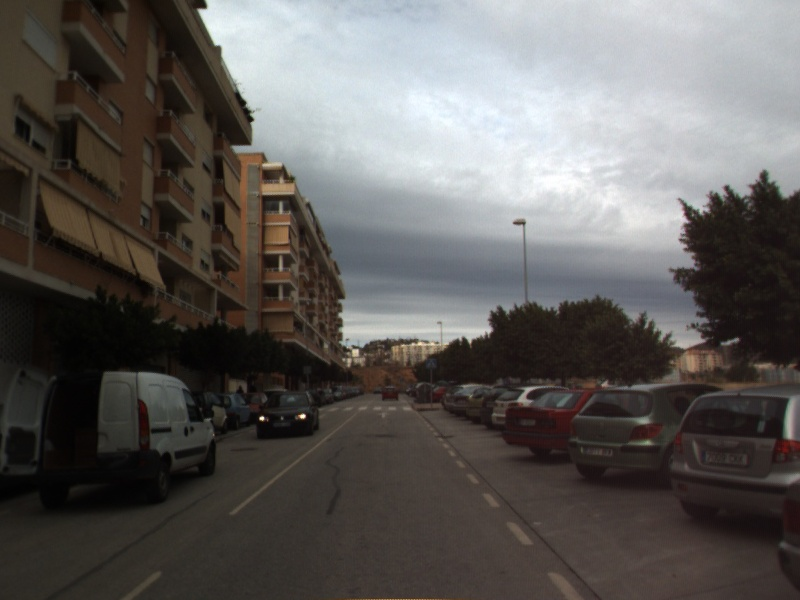STRAIGHT: (376, 410, 393, 420)
